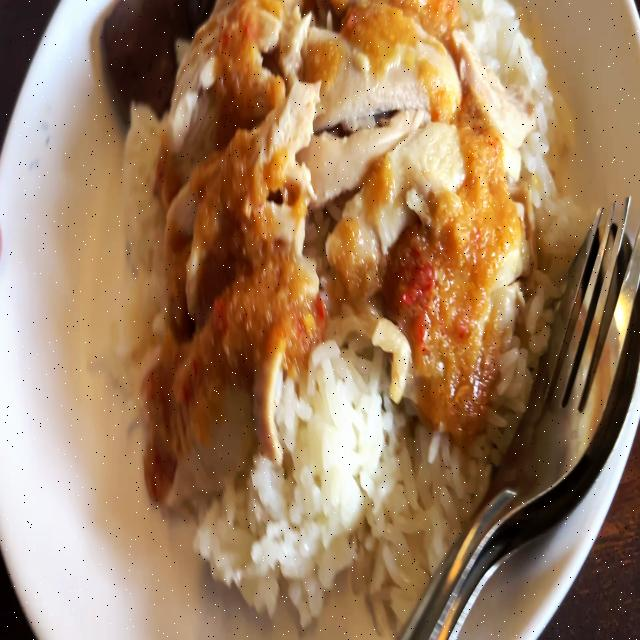boiled_chicken: (178, 0, 510, 445)
boiled_chicken_blood_jelly: (98, 0, 215, 112)
chicken_rice: (91, 0, 580, 624)
